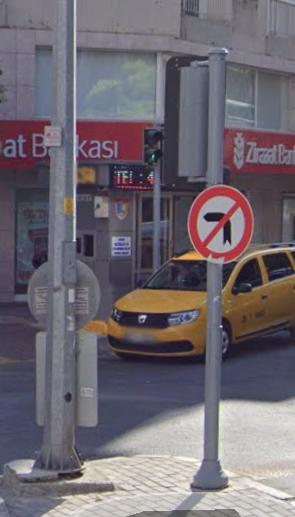leftturnsareforbidden: (194, 187, 251, 262)
